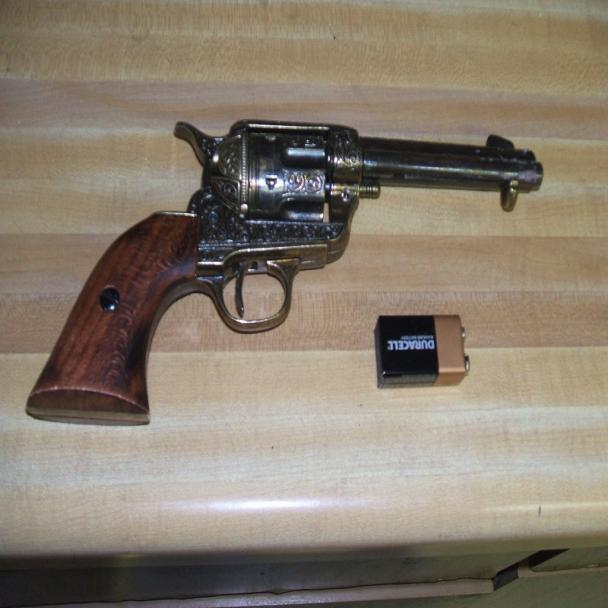Gun: (31, 47, 553, 472)
